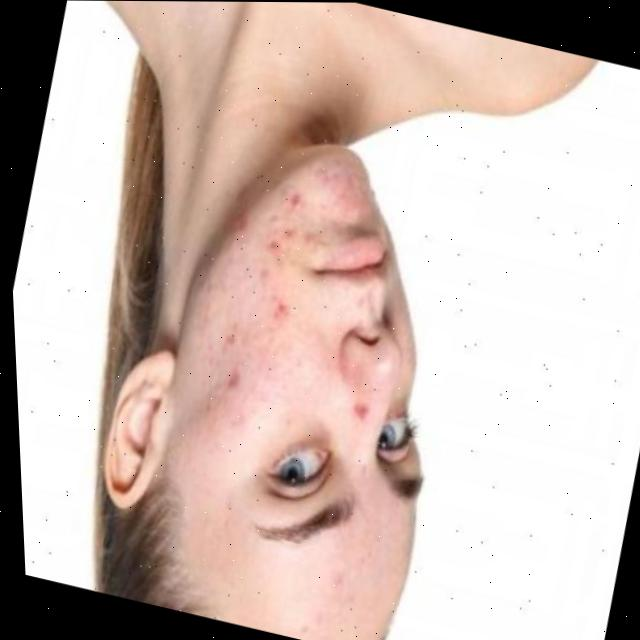Acne: (165, 164, 377, 444), (294, 534, 389, 636), (352, 402, 370, 427)
